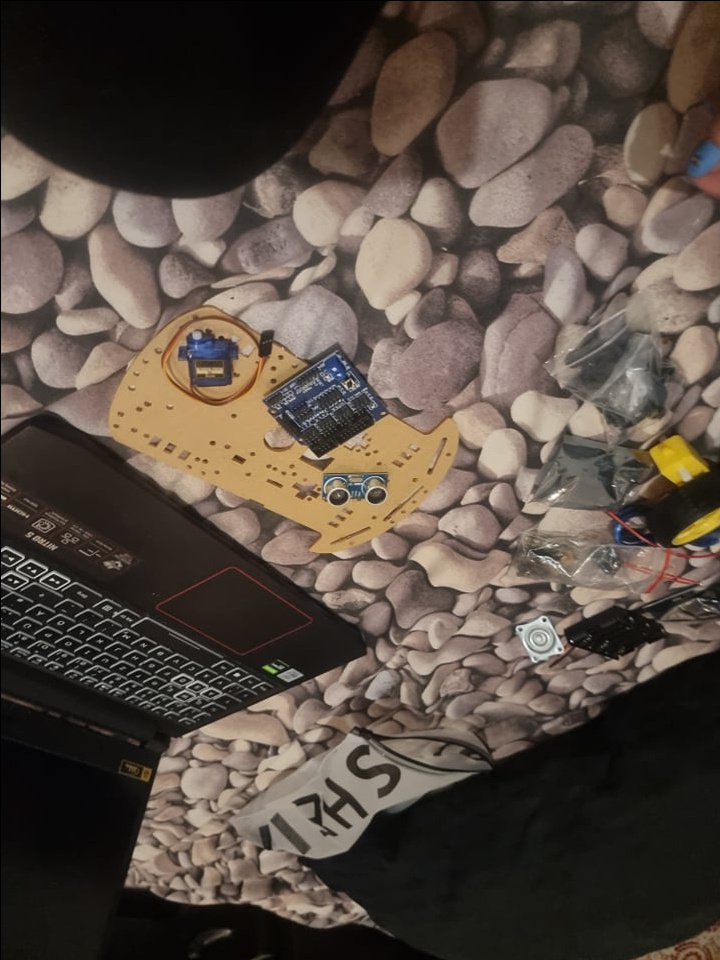5V EXPANSION: (261, 345, 388, 458)
BATTERY BOX: (561, 604, 667, 660)
SENSOR: (321, 471, 390, 507)
